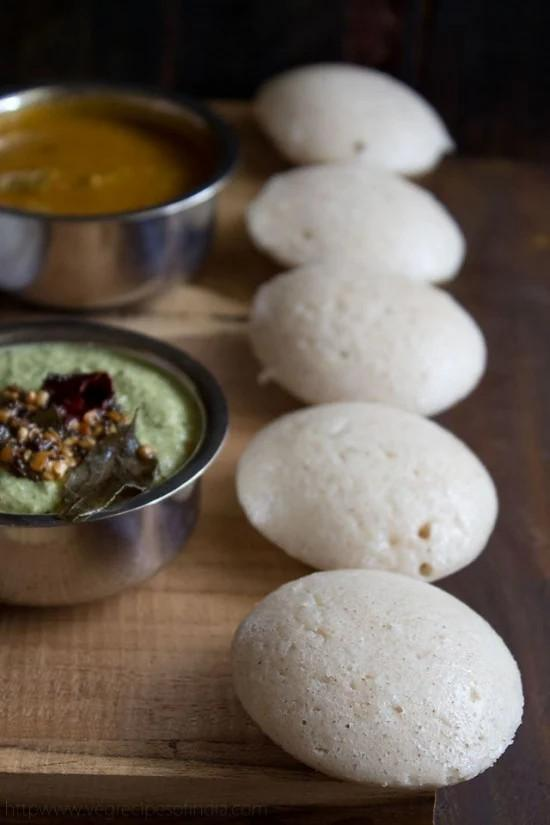Idli: (232, 568, 527, 789), (243, 401, 490, 576), (243, 269, 488, 412), (246, 156, 458, 281), (251, 62, 457, 183)
